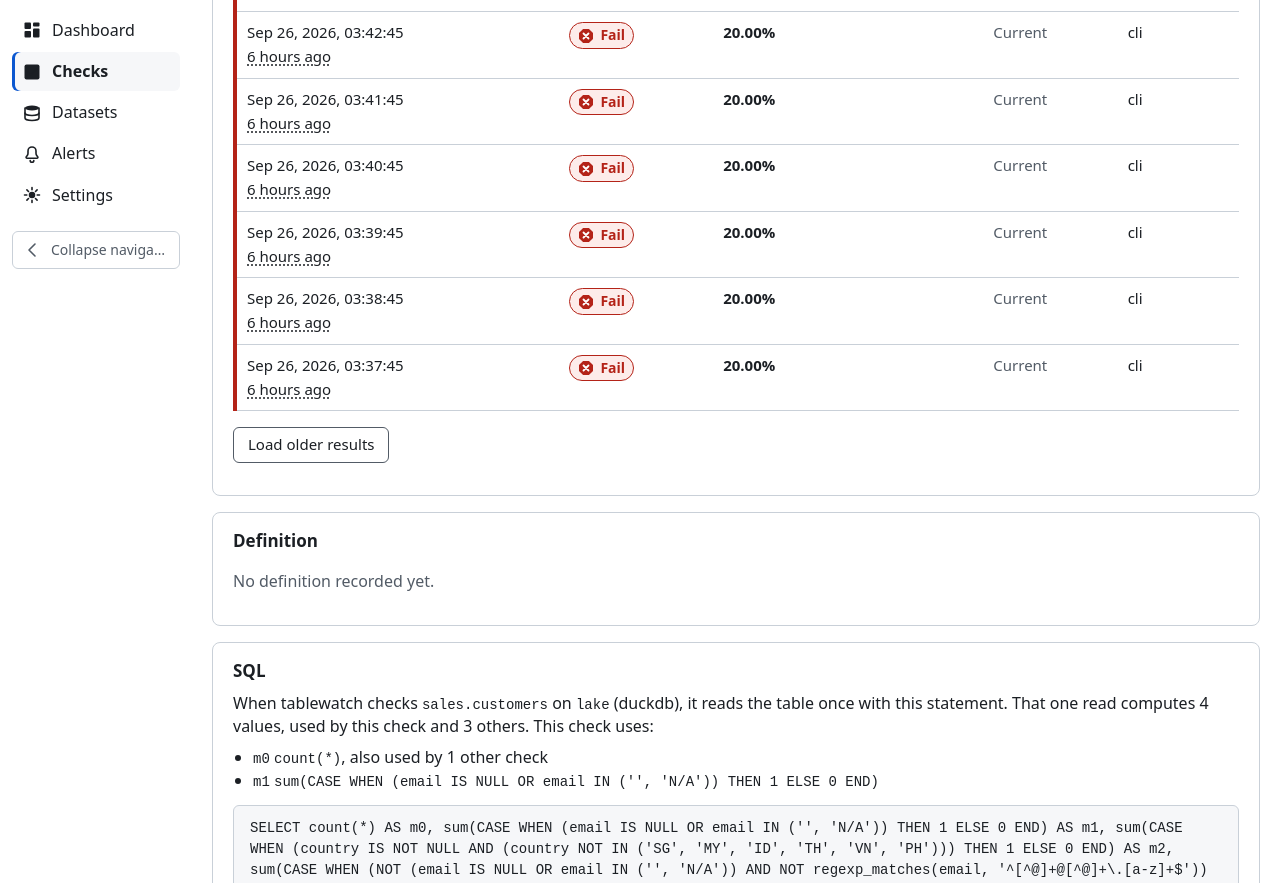
Test: D13: long histories › says it shows the latest 200, and loads older results into the chart and the table
(page scrolled)
Click the button "Load older results".
click(311, 445)  # box 233,428 -> 390,463
(page scrolled)
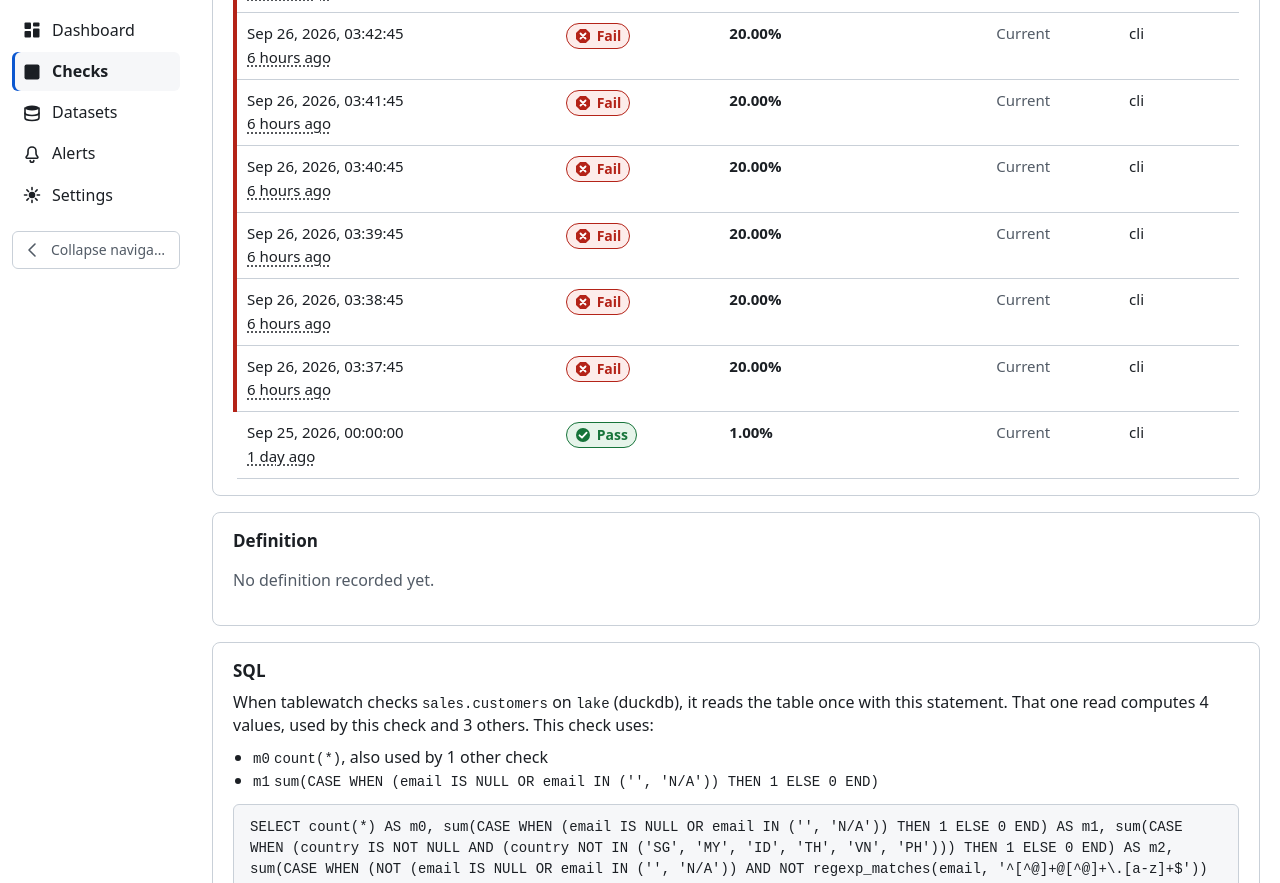
Check: the button "Load older results" is gone
